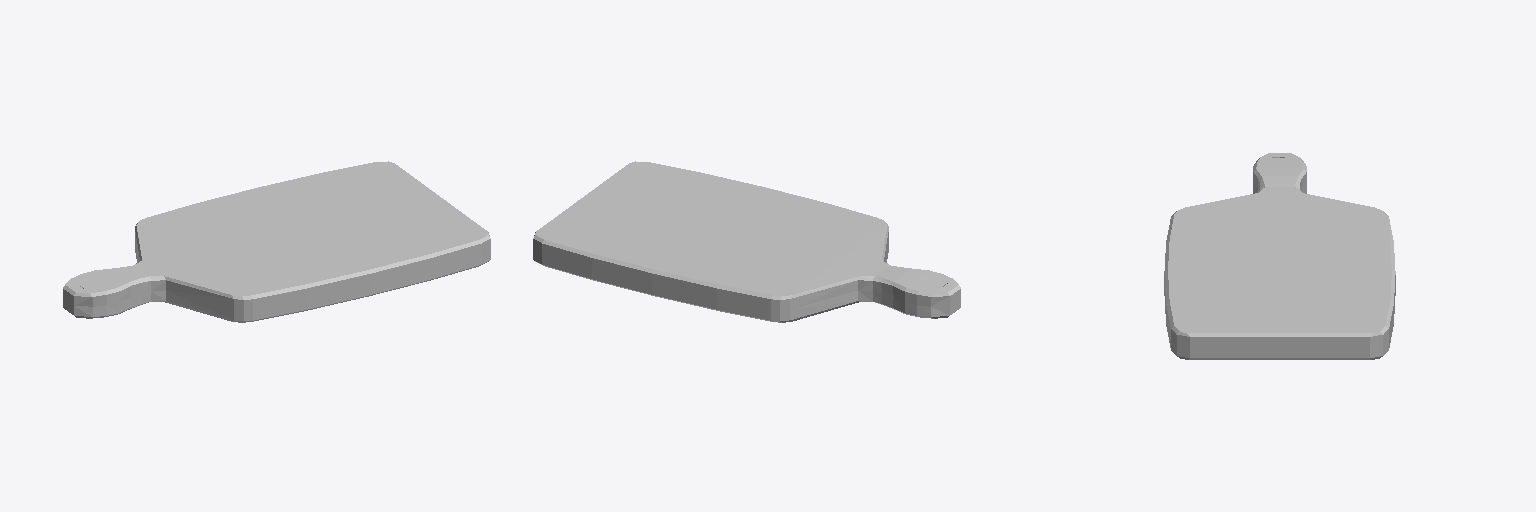
File: board_charcuterie_board.obj
The picture shows the model from 3 angles: view 1: azimuth 30°, elevation 25°; view 2: azimuth 150°, elevation 25°; view 3: azimuth 270°, elevation 25°; orthographic projection.
Visible parts, largest first — view 1: board_charcuterie_board_Cube.203; view 2: board_charcuterie_board_Cube.203; view 3: board_charcuterie_board_Cube.203.
Part boxes in pixels (x1,y1,x2,y2): board_charcuterie_board_Cube.203: (63,161,490,322); board_charcuterie_board_Cube.203: (533,161,960,322); board_charcuterie_board_Cube.203: (1164,153,1395,359).
Size of the model in its own units: 7.31 by 0.5125 by 3.9.